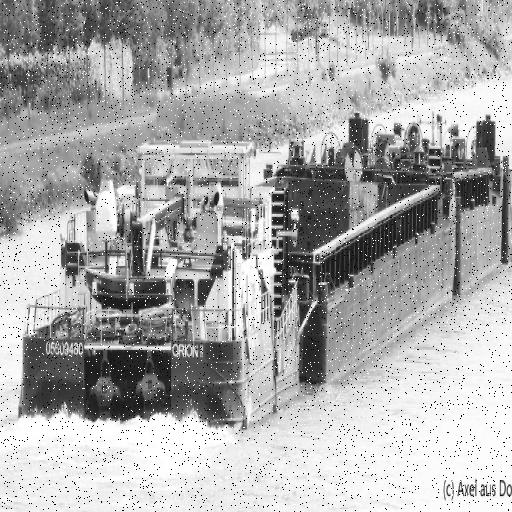tugboat: (15, 124, 308, 462)
